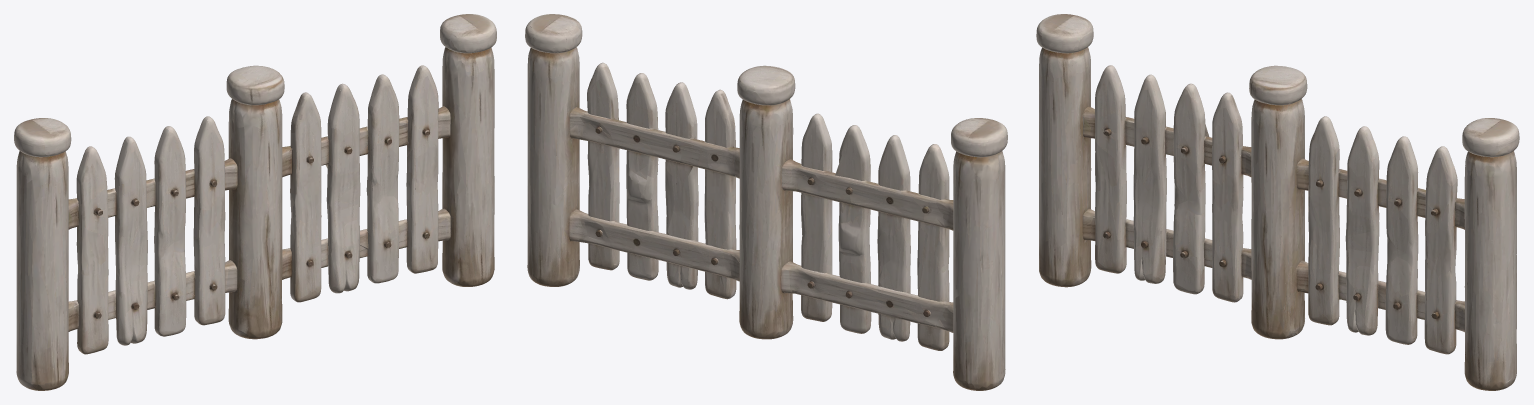
Rendered from fence.glb.
3 views of the same model, side by side, from view 1: azimuth 30°, elevation 25°; view 2: azimuth 150°, elevation 25°; view 3: azimuth 330°, elevation 25° (orthographic).
Parts seen in each view (by area): view 1: Mesh_0; view 2: Mesh_0; view 3: Mesh_0.
Boxes of the visible parts, bbox=[...] form: Mesh_0: bbox=[14, 14, 496, 390]; Mesh_0: bbox=[525, 14, 1007, 390]; Mesh_0: bbox=[1036, 14, 1519, 390].
Bounding box in the file's own units: 1.9 × 0.9812 × 0.1974.
1 material, 1 textured.
